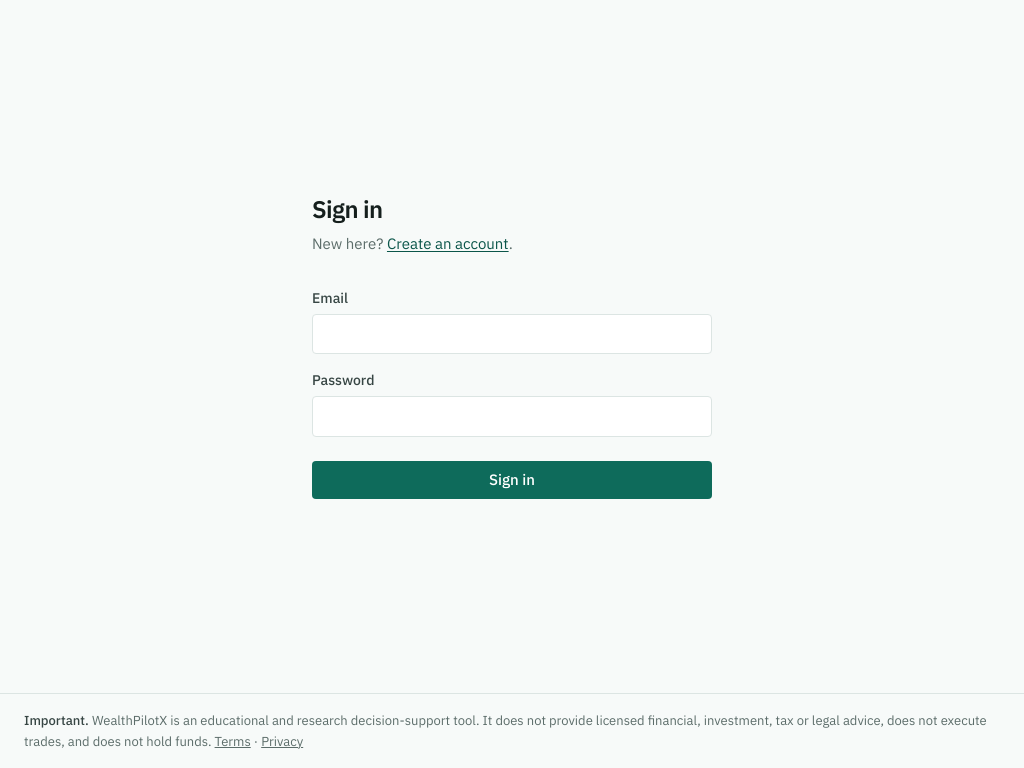
it: Login › shows the server's message when credentials are rejected
Type "investor@example.com" into the field labelled "Email". click: coordinates (512, 334)
box: [312,314,712,354]
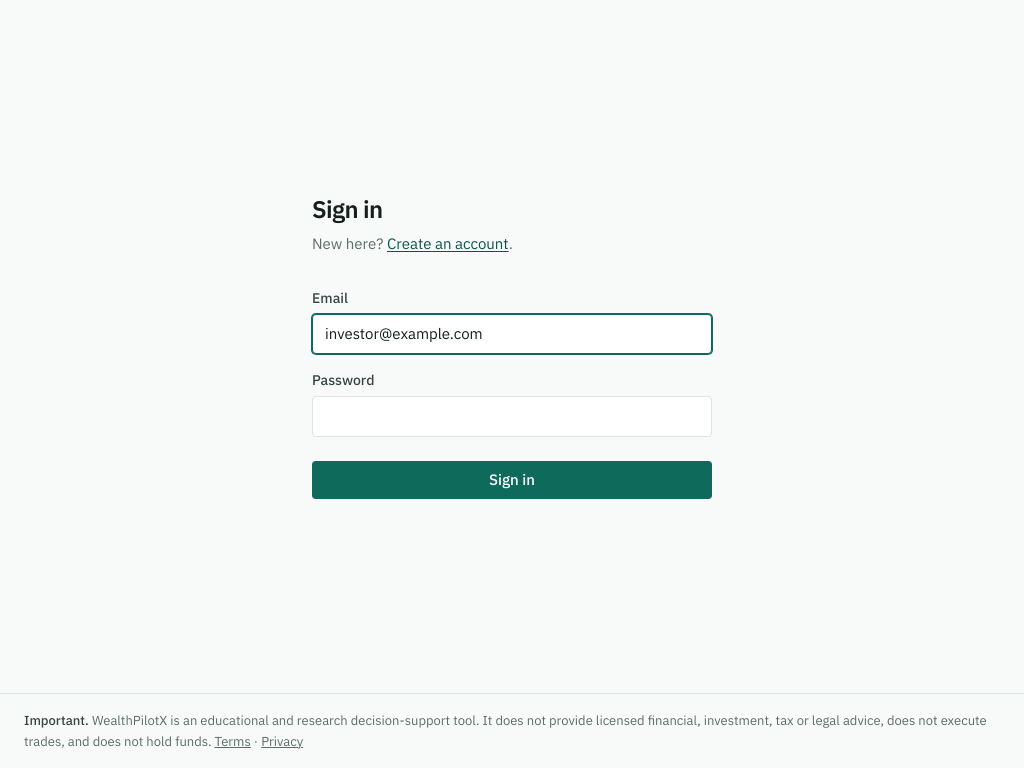
Type "wrong-password" into the password field labelled "Password". click: coordinates (512, 417)
box: [312,396,712,437]
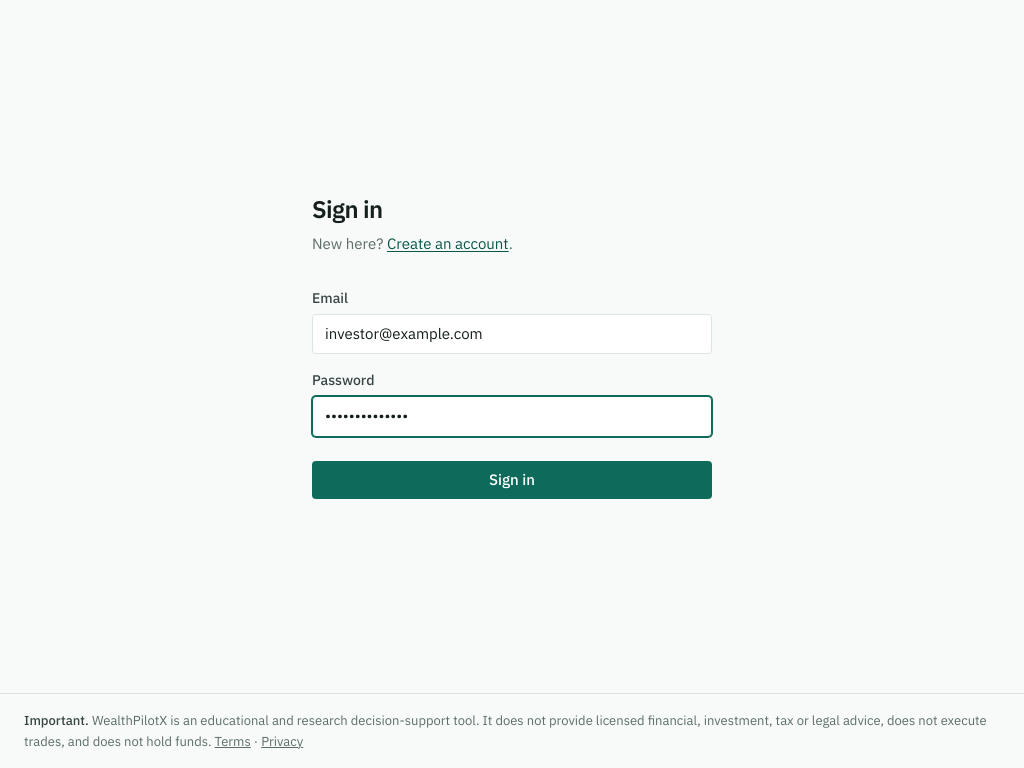
Click the button "Sign in". click: coordinates (512, 480)
box: [312,461,712,499]
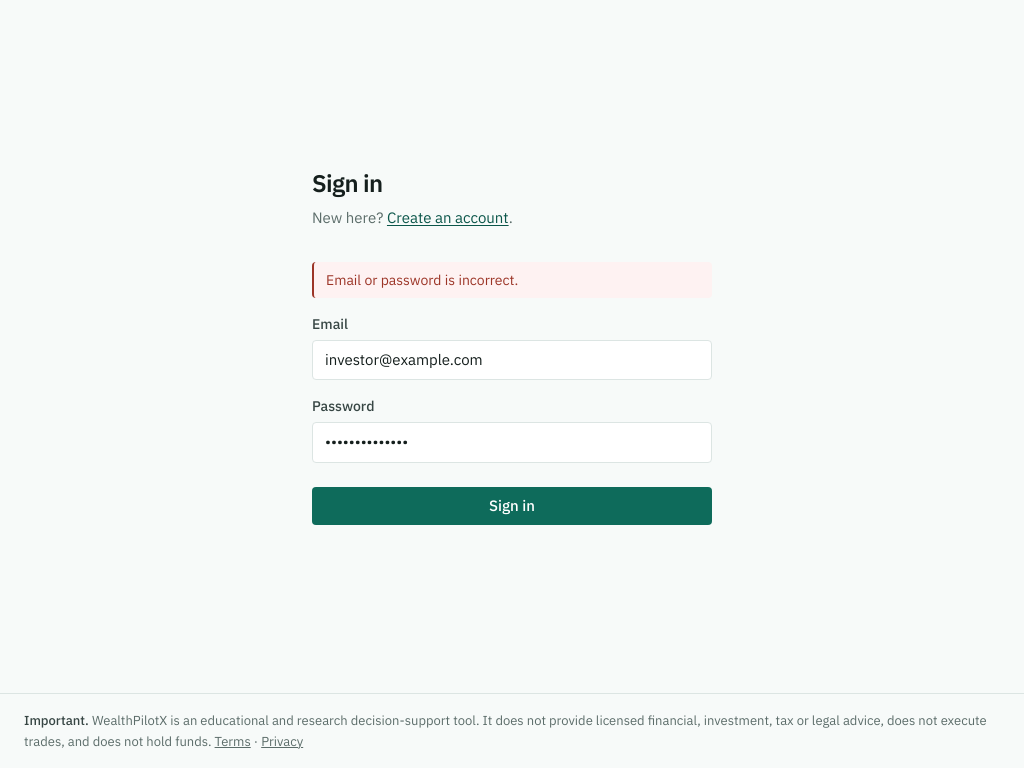
Result: the message shows "incorrect" at [326,271,518,289]
